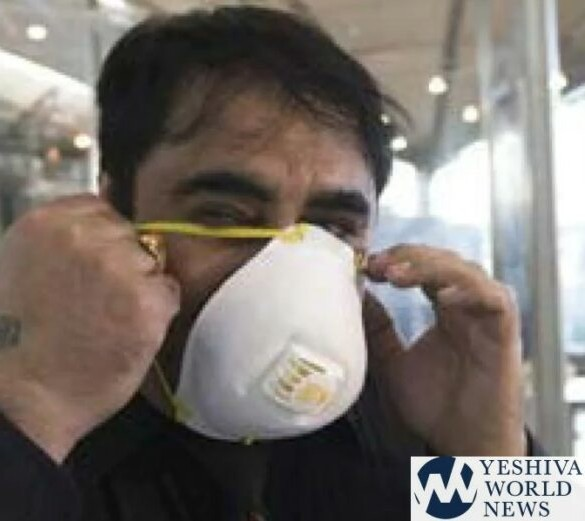with_mask: (135, 101, 385, 450)
